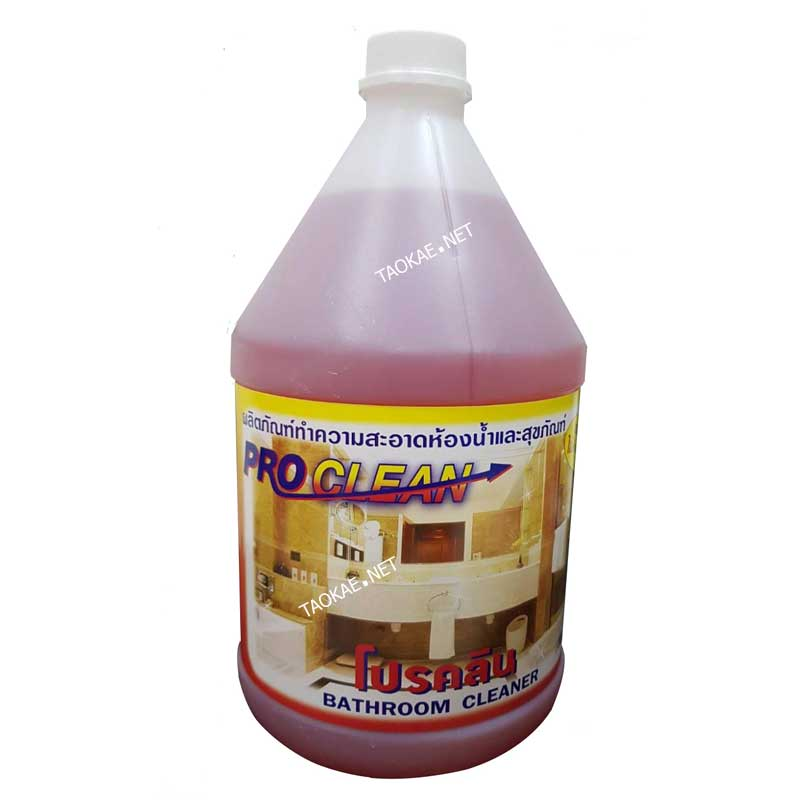Cleaning_solution: (224, 18, 593, 794)
